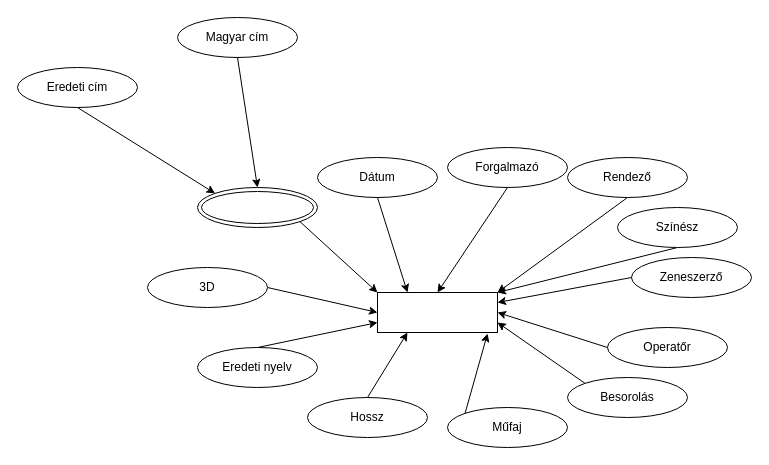
The diagram is 769 pixels wide and 465 high, and some of its shapes have lost their labels. The box of each missing label's shape, as (x1, y1, x2, y2) in pixels:
Cím: (196, 186, 318, 228)
Film: (376, 292, 498, 332)
